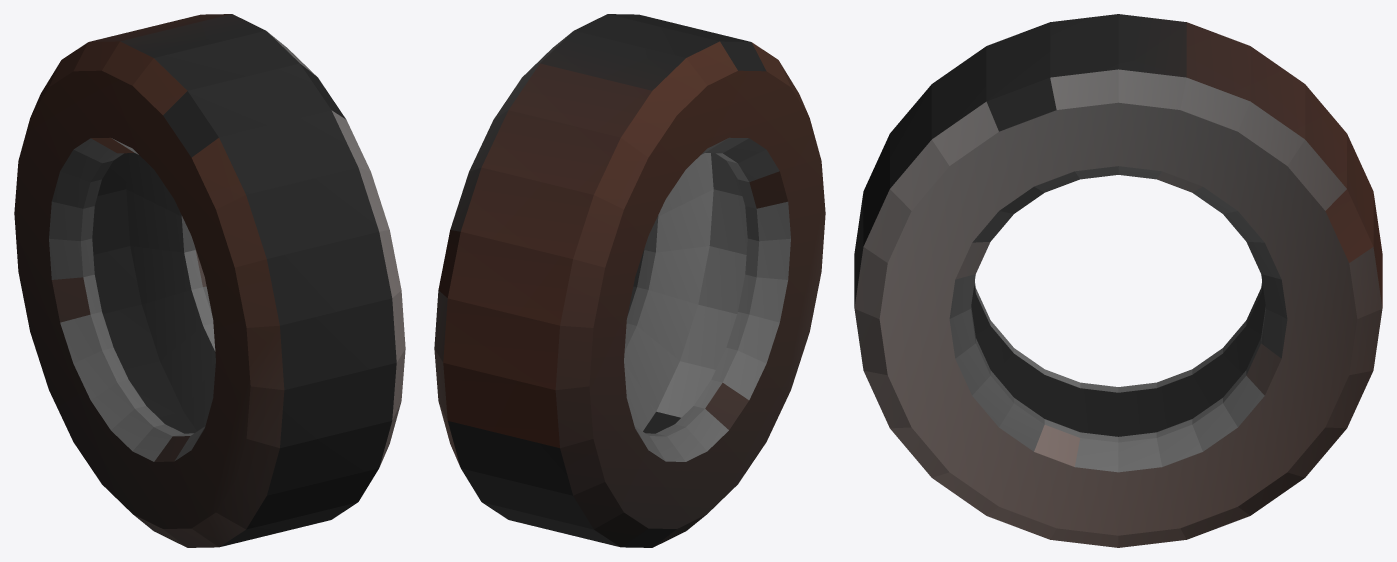
Rendered from TiresLvl1.fbx.
The picture shows the model from 3 angles, left to right: view 1: azimuth 30°, elevation 25°; view 2: azimuth 150°, elevation 25°; view 3: azimuth 270°, elevation 25°; orthographic projection.
Visible parts, largest first — view 1: tires_lvl1; view 2: tires_lvl1; view 3: tires_lvl1.
Part boxes in pixels (x1=…): tires_lvl1: x1=14, y1=14, x2=405, y2=547; tires_lvl1: x1=434, y1=14, x2=825, y2=547; tires_lvl1: x1=854, y1=14, x2=1382, y2=547.
Bounding box in the file's own units: 0.3428 × 1 × 1.
